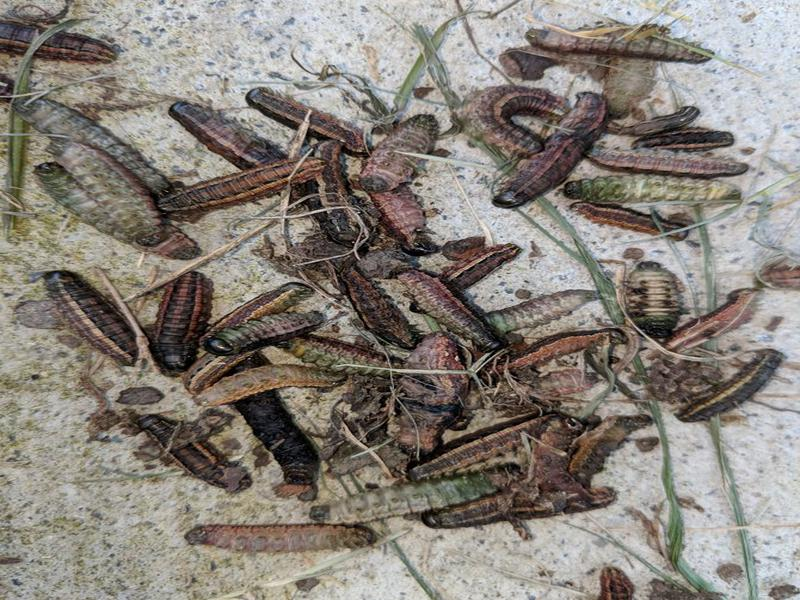Armyworms: (266, 317, 592, 513), (46, 107, 387, 281), (465, 27, 724, 225), (614, 255, 776, 424)
